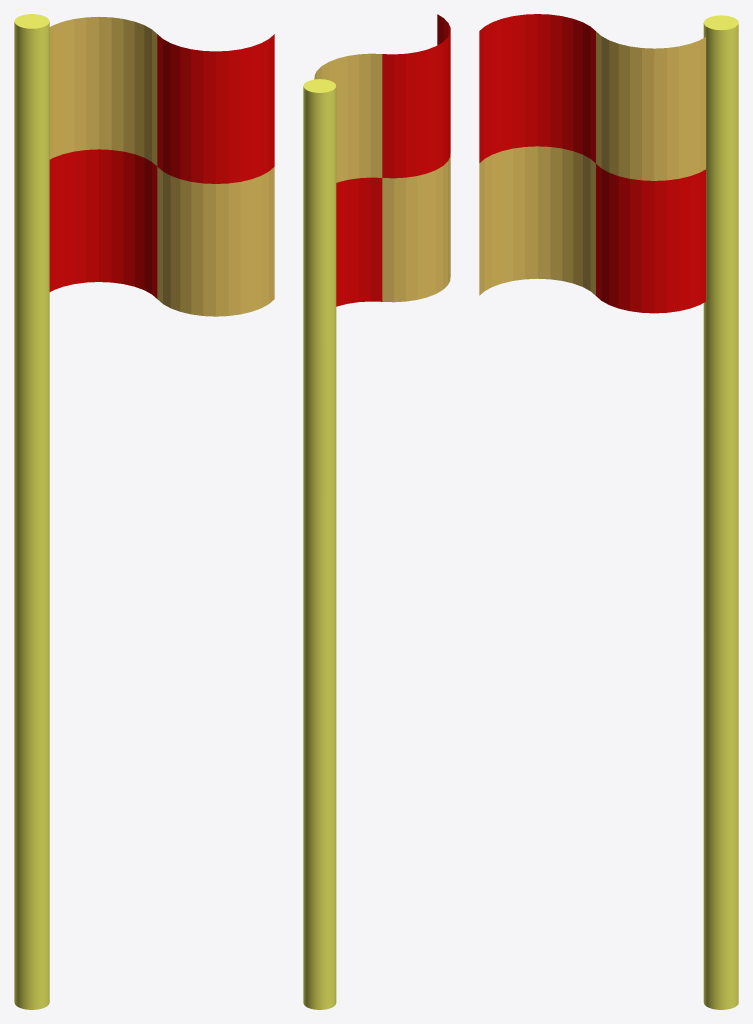
File: flag.dae
3 views of the same model, side by side, from view 1: azimuth 90°, elevation 25°; view 2: azimuth 150°, elevation 25°; view 3: azimuth 270°, elevation 25° (orthographic). The views are drawn at different scales.
Parts seen in each view (by area): view 1: SketchUp (×5); view 2: SketchUp (×5); view 3: SketchUp (×5).
Boxes of the visible parts, x1,y1,x2,y2 form: SketchUp (×5): [14, 14, 274, 1009]; SketchUp (×5): [303, 14, 450, 1009]; SketchUp (×5): [479, 14, 738, 1009].
Bounding box in the file's own units: 5.51 × 17.49 × 72.83.
